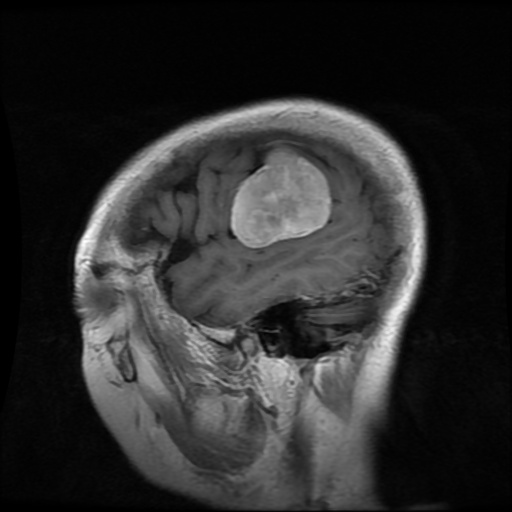meningioma: (232, 146, 332, 248)
